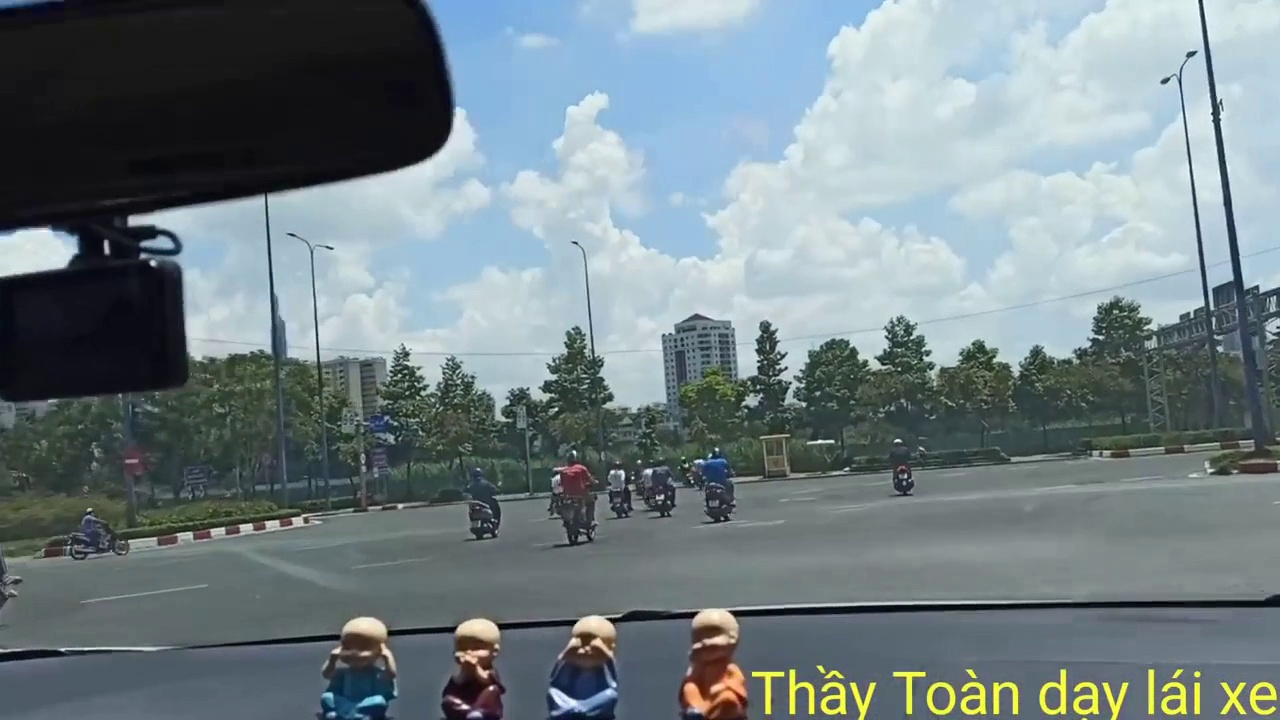Cấm đi ngược chiều: (117, 440, 143, 479)
